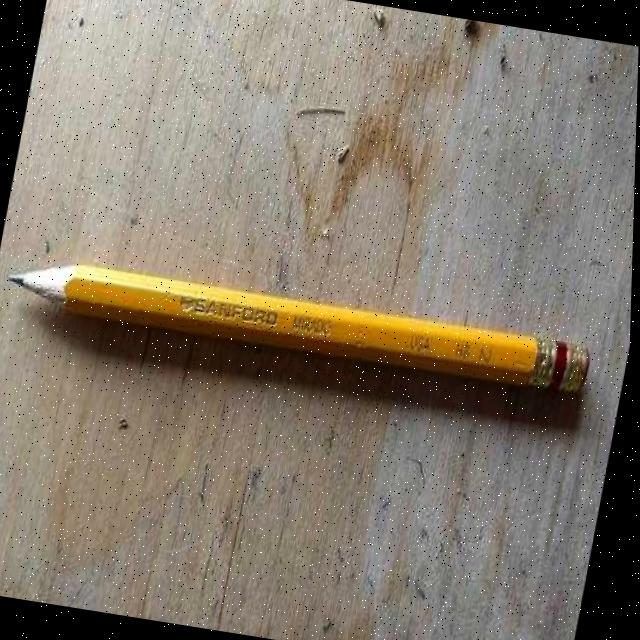pencil: (0, 234, 607, 415)
